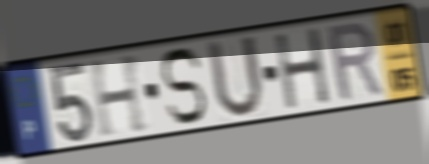5: (44, 60, 95, 145)
H: (86, 51, 151, 141), (271, 25, 333, 113)
R: (324, 18, 386, 105)
S: (157, 45, 209, 128)
U: (204, 33, 267, 122)
